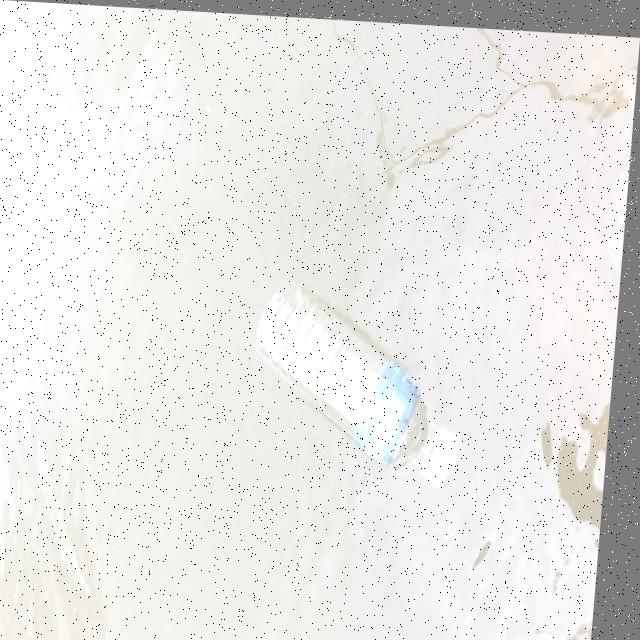waterbottle: (246, 266, 498, 501)
